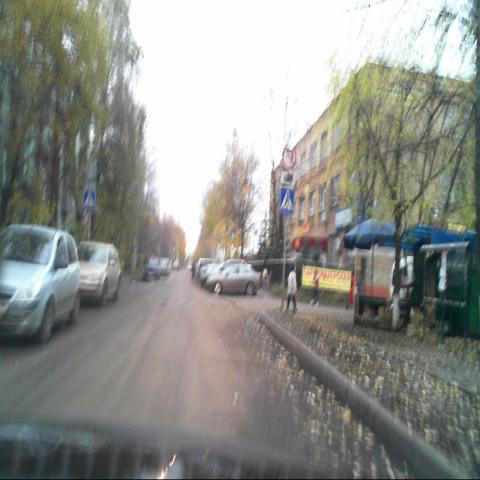3_18_2: (283, 144, 296, 168)
